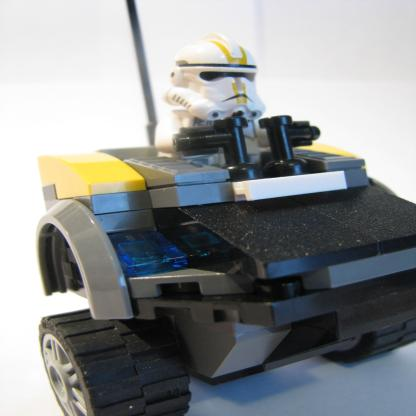Helmet: (167, 29, 267, 119)
